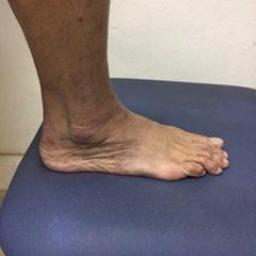Lateral View -Right Foot-: (31, 70, 231, 200)
